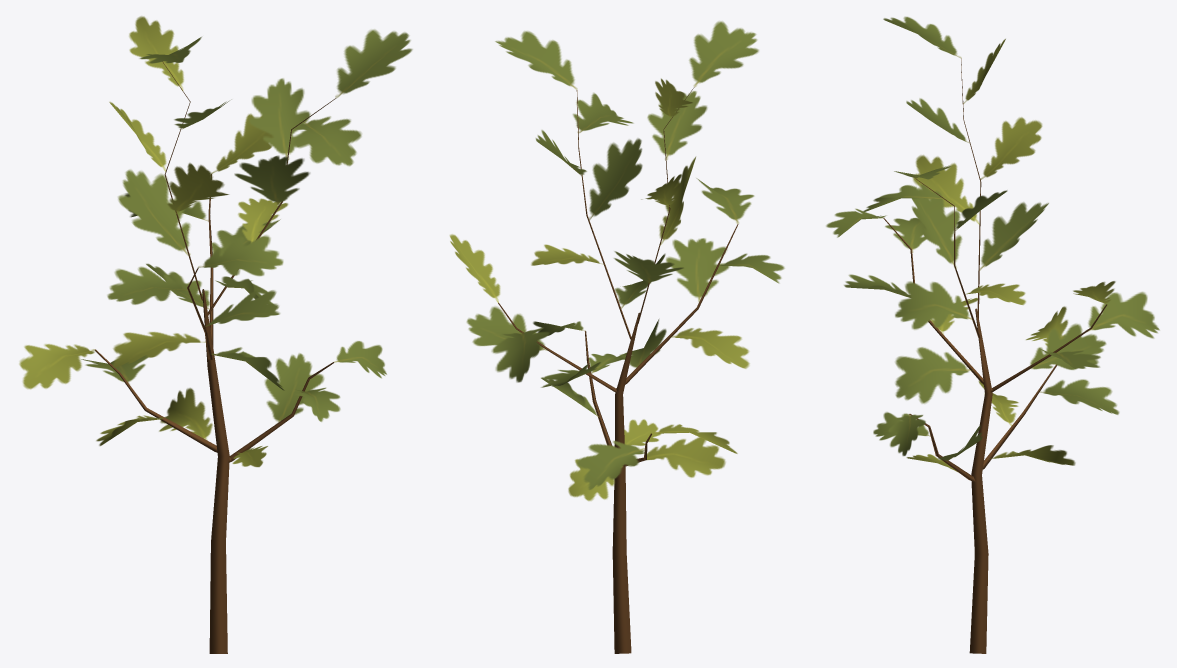
The model's file is Young_Oak_Tree_2.glb.
3 renders of one model, left to right at view 1: azimuth 30°, elevation 25°; view 2: azimuth 150°, elevation 25°; view 3: azimuth 270°, elevation 25°, orthographic. The views are drawn at different scales.
Visible parts, largest first — view 1: Young_Oak_Tree_2; view 2: Young_Oak_Tree_2; view 3: Young_Oak_Tree_2.
Part boxes in pixels (box(x1,y1,x2,y2)): Young_Oak_Tree_2: box(19, 16, 412, 653); Young_Oak_Tree_2: box(449, 21, 784, 653); Young_Oak_Tree_2: box(826, 16, 1159, 653).
Size of the model in its own units: 0.9396 by 1.81 by 0.924.
Materials: 2 (2 with a texture image).
